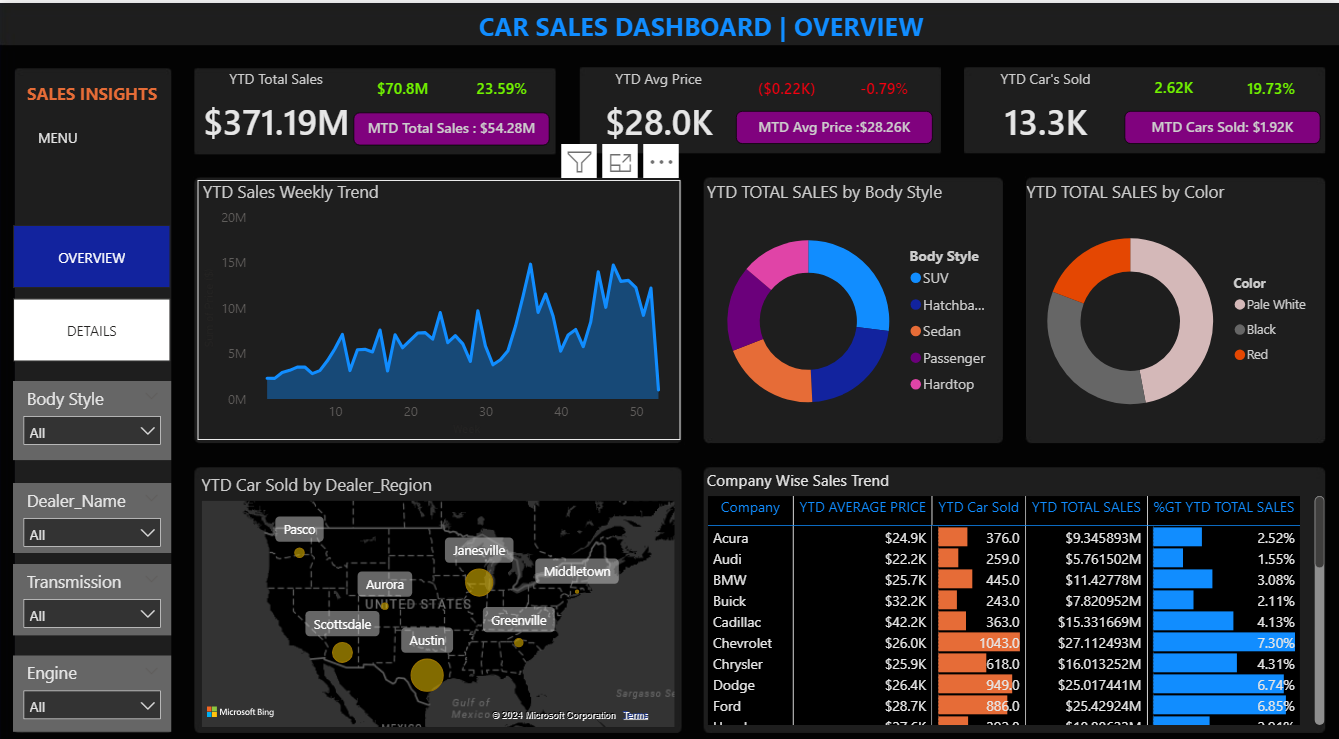

This screenshot's page, from the dashboard's own definition file:
{"tool":"powerbi","page":{"name":"OVERVIEW","canvas":[1280,720],"ordinal":0},"visuals":[{"type":"card","title":" YTD Total Sales ","fields":{"Values":["car_data.YTD TOTAL SALES"]},"box":[189.4,63.1,149.6,82.3],"z":0},{"type":"card","fields":{"Values":["car_data.Sales Difference"]},"box":[338.9,63.1,93.3,41.2],"z":1000},{"type":"card","fields":{"Values":["car_data.YOY Sales Growth"]},"box":[432.2,63.1,93.3,41.2],"z":2000},{"type":"card","fields":{"Values":["car_data.MTD KPI"]},"box":[338.9,104.3,186.6,31.6],"z":3000},{"type":"card","title":" YTD Avg Price","fields":{"Values":["car_data.YTD AVERAGE PRICE"]},"box":[554.4,63.1,149.6,82.3],"z":4000},{"type":"card","fields":{"Values":["car_data.avg price diff"]},"box":[703.9,63.1,93.3,41.2],"z":5000},{"type":"card","fields":{"Values":["car_data.Yoy Avg price growth"]},"box":[797.3,63.1,93.3,41.2],"z":6000},{"type":"card","fields":{"Values":["car_data.MTD Avg Price Kpi"]},"box":[703.3,102.9,187.1,31.2],"z":7000},{"type":"card","title":" YTD Car''s Sold","fields":{"Values":["car_data.YTD Car Sold"]},"box":[923.5,63.1,149.6,82.3],"z":8000},{"type":"card","fields":{"Values":["car_data.Cars sold diff"]},"box":[1073.1,61.7,93.3,41.2],"z":9000},{"type":"card","fields":{"Values":["car_data.YoY car sold growth"]},"box":[1166.4,63.1,93.3,41.2],"z":10000},{"type":"card","fields":{"Values":["car_data.MTD Cars Sold KPI"]},"box":[1073.1,102.9,186.6,31.6],"z":11000},{"type":"areaChart","title":"YTD Sales Weekly Trend","fields":{"Category":["Calendar Table.Week"],"Y":["Sum(car_data.Price ($))"]},"box":[189.4,168.9,460.9,247.3],"z":12000},{"type":"donutChart","fields":{"Category":["car_data.Body Style"],"Y":["car_data.YTD TOTAL SALES"]},"box":[669.6,168.8,286.8,247],"z":13000},{"type":"donutChart","fields":{"Category":["car_data.Color"],"Y":["car_data.YTD TOTAL SALES"]},"box":[974.3,168.8,285.4,247],"z":14000},{"type":"tableEx","title":"Company Wise Sales Trend","fields":{"Values":["car_data (2).Company","car_data.YTD AVERAGE PRICE","car_data.YTD Car Sold","car_data.YTD TOTAL SALES1","car_data.YTD TOTAL SALES"]},"box":[669.6,444.6,598.3,248.4],"z":15000},{"type":"slicer","fields":{"Values":["car_data.Body Style"]},"box":[14.2,359.8,150.8,75.4],"z":16000},{"type":"slicer","fields":{"Values":["car_data.Dealer_Name"]},"box":[14.2,456.5,150.8,66.8],"z":17000},{"type":"slicer","fields":{"Values":["car_data.Transmission"]},"box":[14.2,534.8,150.8,68.3],"z":18000},{"type":"slicer","fields":{"Values":["car_data.Engine"]},"box":[14.2,621.5,150.8,72.5],"z":19000},{"type":"map","fields":{"Size":["car_data.YTD Car Sold"],"Category":["car_data.Dealer_Region"]},"box":[189.2,446.6,460.8,247.5],"z":20000},{"type":"textbox","box":[452.3,0,439.5,83.9],"z":21000},{"type":"textbox","box":[14.2,69.7,150.8,32.7],"z":22000},{"type":"textbox","box":[14.2,112.4,85.3,32.7],"z":23000},{"type":"pageNavigator","box":[14.2,211.9,150.8,130.8],"z":24000}]}

Visuals, with their boxes in screenshot pixels (x1, y1, x2, y2), scaled from the page's 1280x720 canvas onto the 1339x739 screenshot:
" YTD Total Sales " card: {"x1": 198, "y1": 65, "x2": 355, "y2": 149}
card - car_data.Sales Difference: {"x1": 355, "y1": 65, "x2": 452, "y2": 107}
card - car_data.YOY Sales Growth: {"x1": 452, "y1": 65, "x2": 550, "y2": 107}
card - car_data.MTD KPI: {"x1": 355, "y1": 107, "x2": 550, "y2": 139}
" YTD Avg Price" card: {"x1": 580, "y1": 65, "x2": 736, "y2": 149}
card - car_data.avg price diff: {"x1": 736, "y1": 65, "x2": 834, "y2": 107}
card - car_data.Yoy Avg price growth: {"x1": 834, "y1": 65, "x2": 932, "y2": 107}
card - car_data.MTD Avg Price Kpi: {"x1": 736, "y1": 106, "x2": 931, "y2": 138}
" YTD Car''s Sold" card: {"x1": 966, "y1": 65, "x2": 1123, "y2": 149}
card - car_data.Cars sold diff: {"x1": 1123, "y1": 63, "x2": 1220, "y2": 106}
card - car_data.YoY car sold growth: {"x1": 1220, "y1": 65, "x2": 1318, "y2": 107}
card - car_data.MTD Cars Sold KPI: {"x1": 1123, "y1": 106, "x2": 1318, "y2": 138}
"YTD Sales Weekly Trend" areaChart: {"x1": 198, "y1": 173, "x2": 680, "y2": 427}
donutChart - car_data.Body Style x car_data.YTD TOTAL SALES: {"x1": 700, "y1": 173, "x2": 1000, "y2": 427}
donutChart - car_data.Color x car_data.YTD TOTAL SALES: {"x1": 1019, "y1": 173, "x2": 1318, "y2": 427}
"Company Wise Sales Trend" tableEx: {"x1": 700, "y1": 456, "x2": 1326, "y2": 711}
slicer - car_data.Body Style: {"x1": 15, "y1": 369, "x2": 173, "y2": 447}
slicer - car_data.Dealer_Name: {"x1": 15, "y1": 469, "x2": 173, "y2": 537}
slicer - car_data.Transmission: {"x1": 15, "y1": 549, "x2": 173, "y2": 619}
slicer - car_data.Engine: {"x1": 15, "y1": 638, "x2": 173, "y2": 712}
map - car_data.YTD Car Sold x car_data.Dealer_Region: {"x1": 198, "y1": 458, "x2": 680, "y2": 712}
textbox: {"x1": 473, "y1": 0, "x2": 933, "y2": 86}
textbox: {"x1": 15, "y1": 72, "x2": 173, "y2": 105}
textbox: {"x1": 15, "y1": 115, "x2": 104, "y2": 149}
pageNavigator: {"x1": 15, "y1": 217, "x2": 173, "y2": 352}
